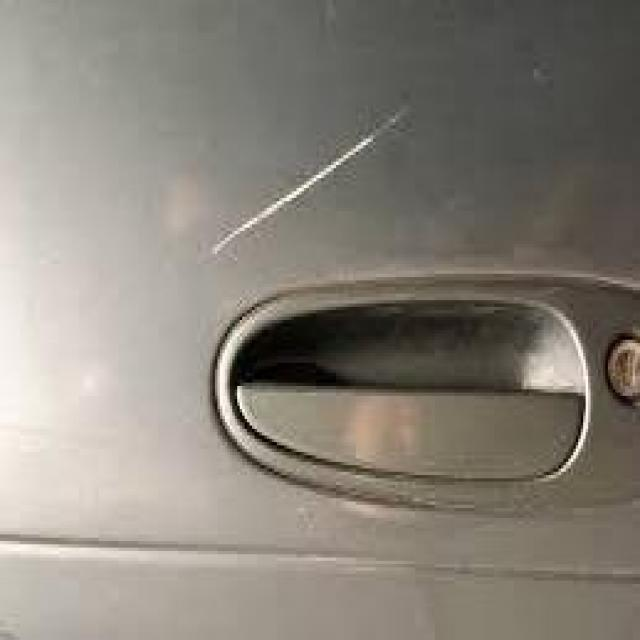scratch: (179, 79, 444, 274)
